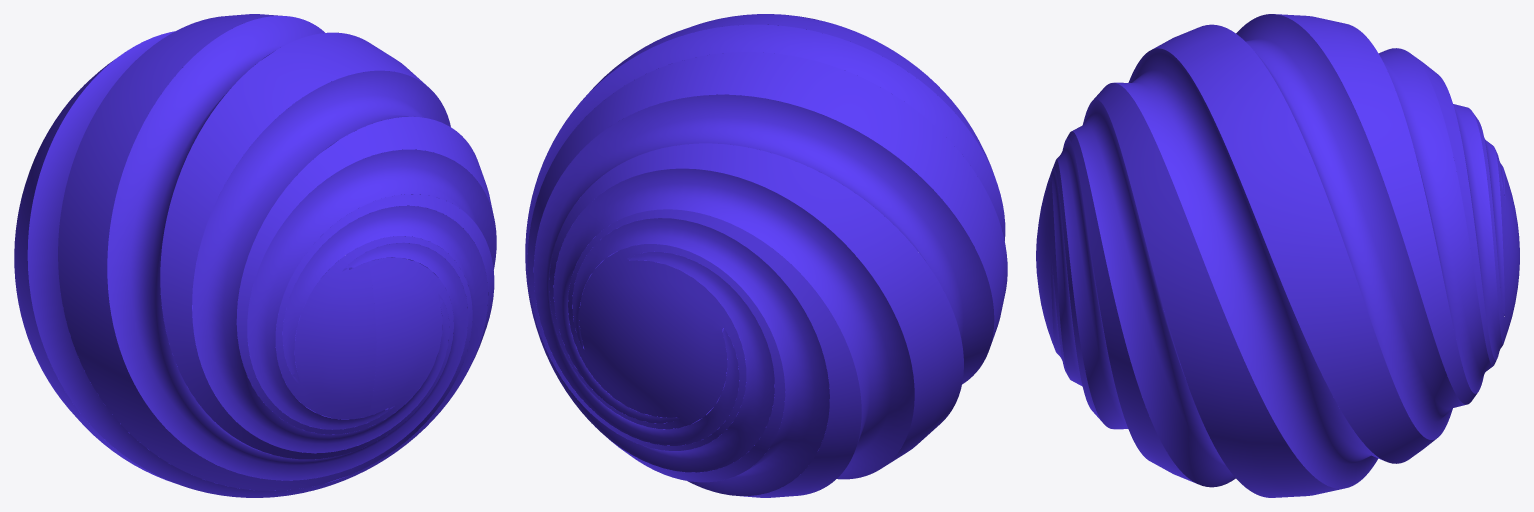
3 views of the same model, side by side, from view 1: azimuth 30°, elevation 25°; view 2: azimuth 150°, elevation 25°; view 3: azimuth 270°, elevation 25° (orthographic).
Parts seen in each view (by area): view 1: object_004_Retopo_default_0; view 2: object_004_Retopo_default_0; view 3: object_004_Retopo_default_0.
Boxes of the visible parts, box(x1,y1,x2,y2) form: object_004_Retopo_default_0: box(14, 14, 496, 497); object_004_Retopo_default_0: box(525, 14, 1007, 497); object_004_Retopo_default_0: box(1036, 14, 1519, 497).
Bounding box in the file's own units: 2.12 × 2.12 × 2.14.
